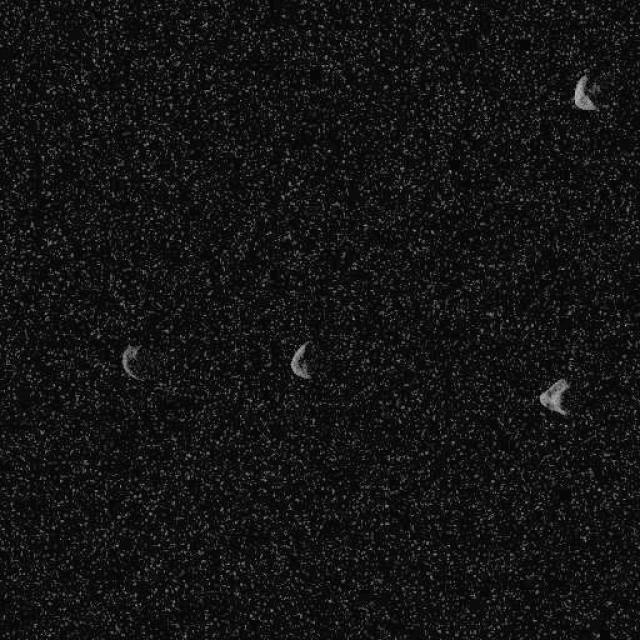D2: (538, 377, 570, 418), (120, 342, 148, 382), (288, 340, 312, 380), (572, 74, 596, 111)
